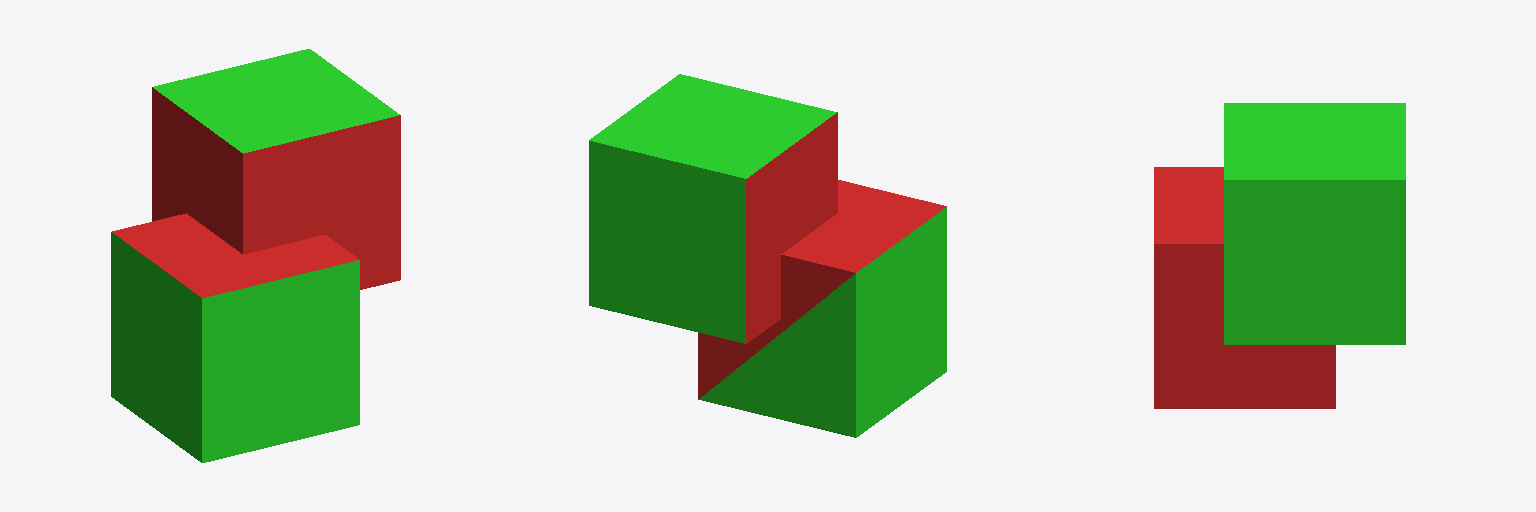
File: cube_overlap.obj
The picture shows the model from 3 angles: view 1: azimuth 30°, elevation 25°; view 2: azimuth 150°, elevation 25°; view 3: azimuth 270°, elevation 25°; orthographic projection.
Size of the model in its own units: 2.95 by 3.22 by 2.76.